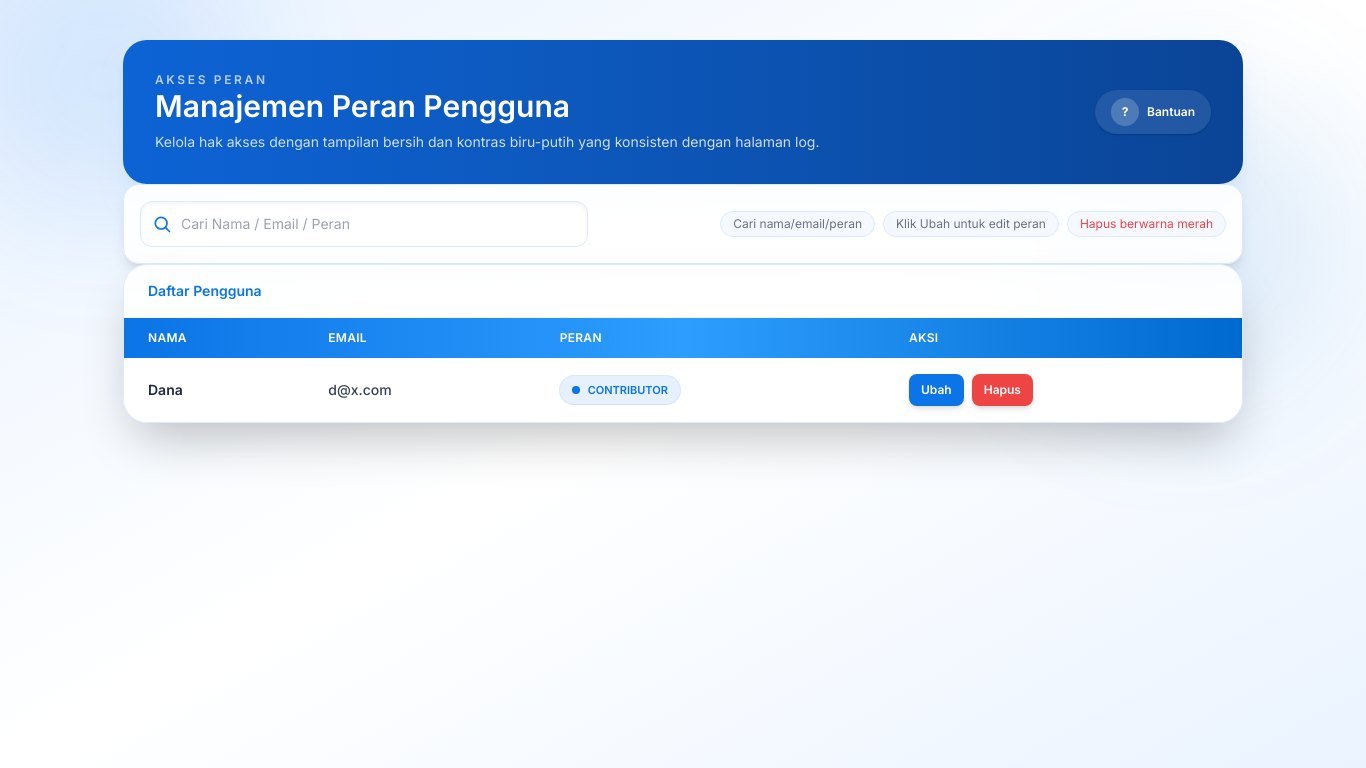
Admin role management - coverage targets › opens confirm modal when clicking Hapus and cancels
expect the text "Dana" is shown: met, box [148,381,183,398]
click to open confirm modal
Click the button "Hapus" at [1002, 390], box [972,374,1033,406]
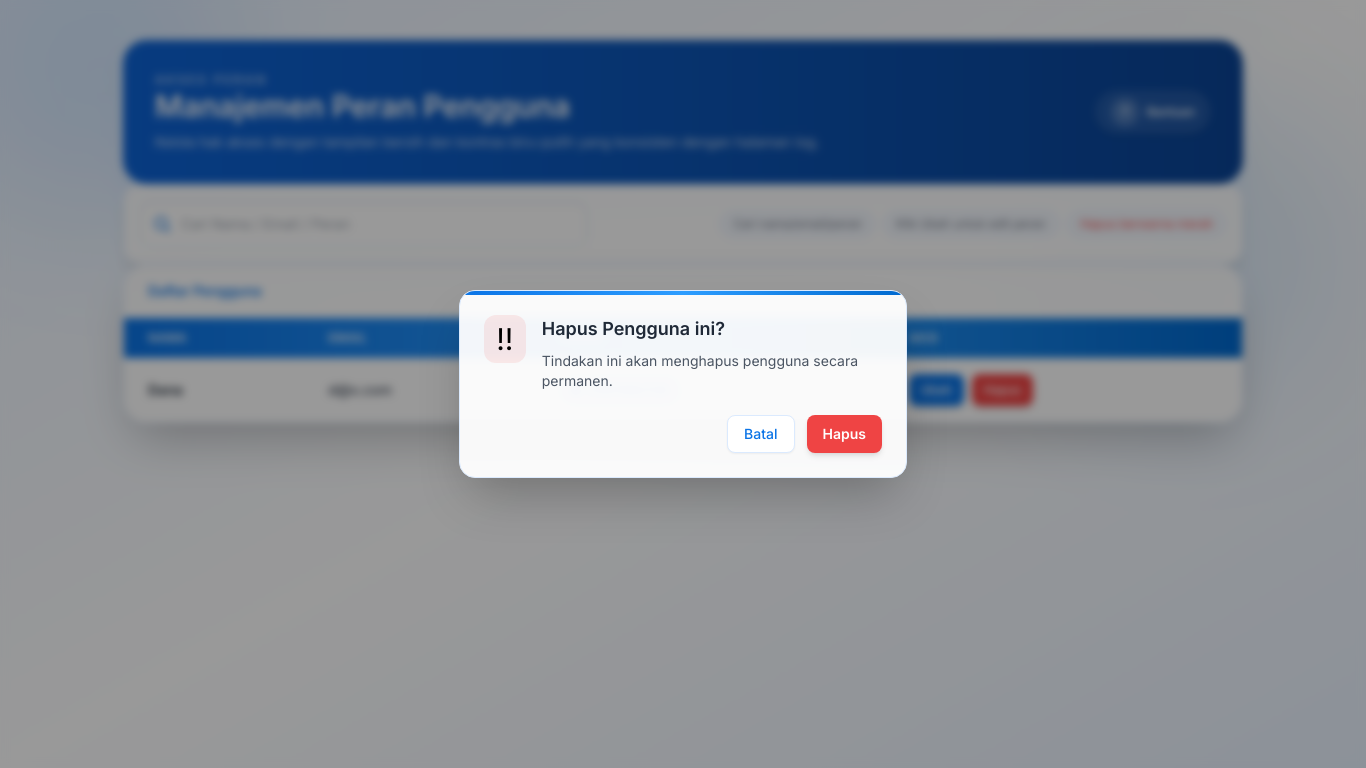
expect the heading "Hapus Pengguna ini?" is shown: met, box [542,318,725,339]
click Batal
Click the button "Batal" at [761, 434], box [727,415,794,453]
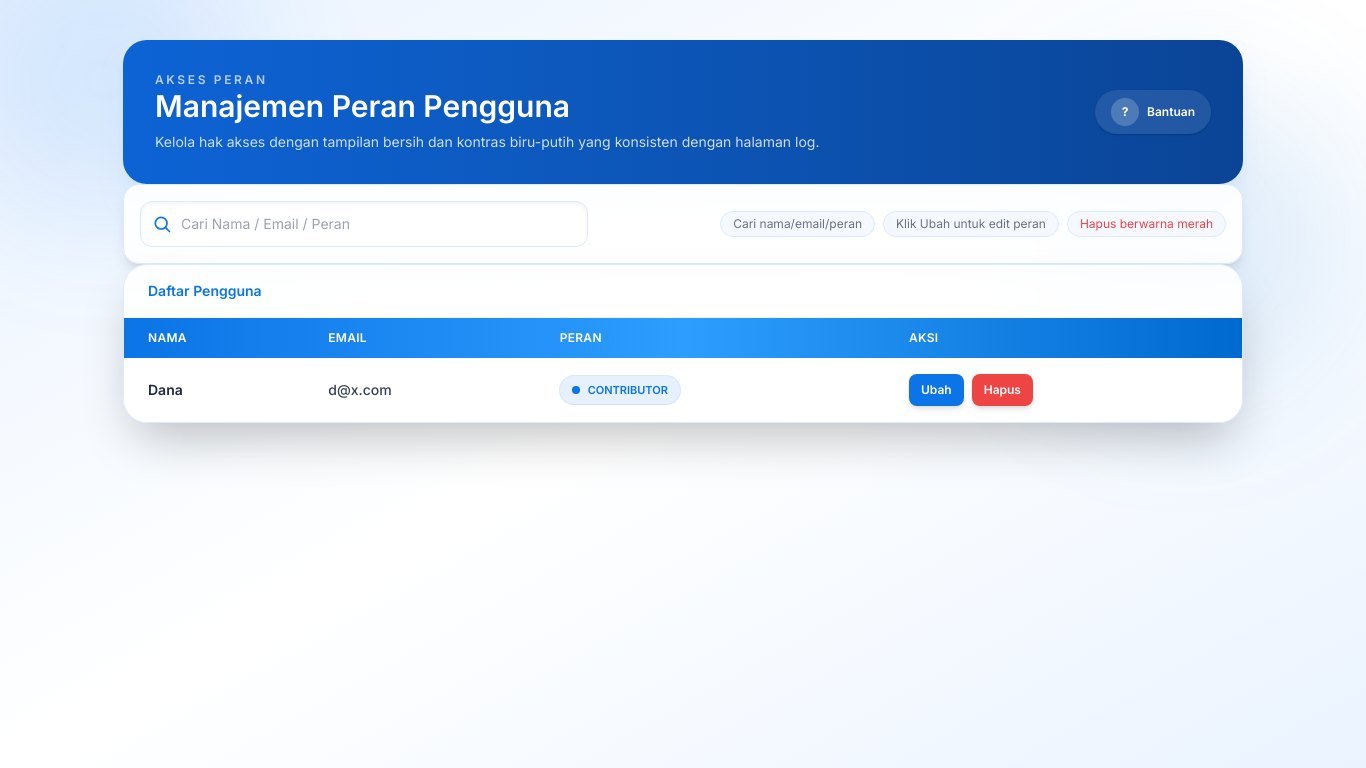
expect the text "Dana" is shown: met, box [148,381,183,398]
expect the heading "Hapus Pengguna ini?" is gone: met
